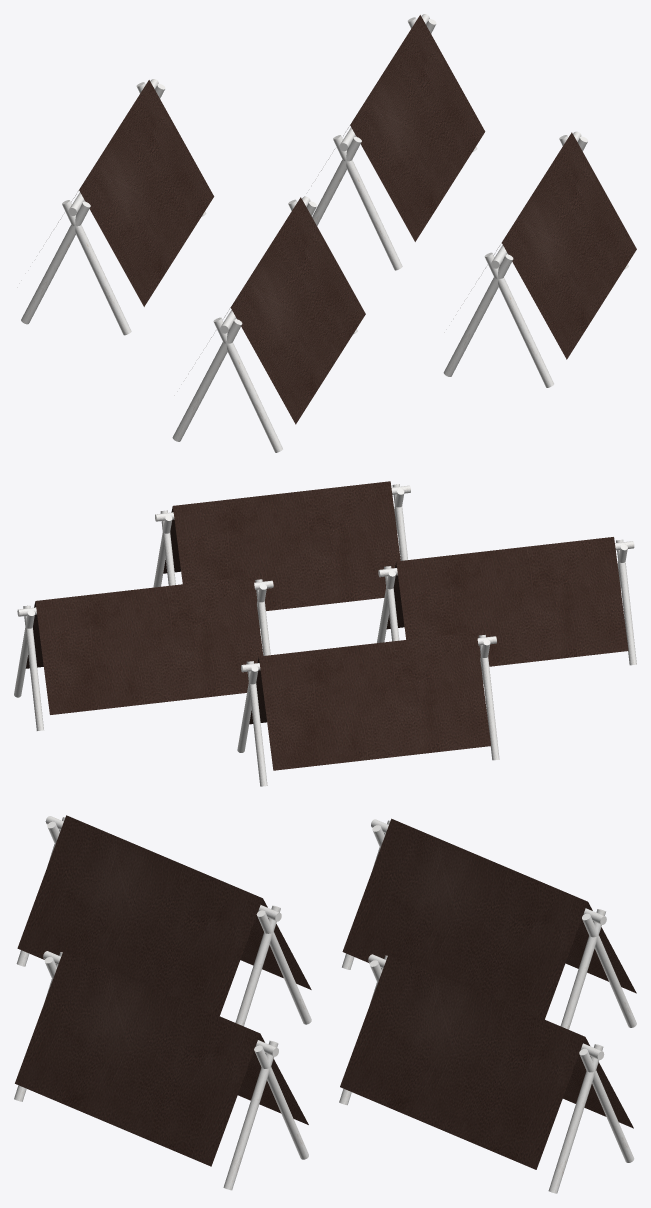
The model's file is boneTent.glb.
3 views of the same model, one above another, from view 1: azimuth 30°, elevation 25°; view 2: azimuth 150°, elevation 25°; view 3: azimuth 270°, elevation 25° (orthographic). The views are drawn at different scales.
Parts seen in each view (by area): view 1: Plane.001, Plane.002, Plane, Plane.003, Cylinder.001, Cylinder.016, Cylinder.011, Cylinder.006, Cylinder.012, Cylinder.002, Cylinder.007, Cylinder.017; view 2: Plane.002, Plane.003, Plane, Plane.001, Cylinder.014, Cylinder.019, Cylinder.012, Cylinder.002, Cylinder.018, Cylinder.013, Cylinder.008, Cylinder.003 (+4 smaller); view 3: Plane.001, Plane.003, Plane, Plane.002, Cylinder.008, Cylinder.018, Cylinder.009, Cylinder.019, Cylinder.004, Cylinder.014, Cylinder.003, Cylinder.013.
Part boxes in pixels (x1=…): Plane.001: x1=485, y1=132, x2=636, y2=359; Plane.002: x1=58, y1=80, x2=214, y2=306; Plane: x1=211, y1=197, x2=365, y2=424; Plane.003: x1=321, y1=15, x2=485, y2=241; Cylinder.001: x1=213, y1=317, x2=282, y2=452; Cylinder.016: x1=333, y1=135, x2=402, y2=270; Cylinder.011: x1=62, y1=200, x2=131, y2=335; Cylinder.006: x1=484, y1=252, x2=553, y2=387; Cylinder.012: x1=21, y1=201, x2=90, y2=324; Cylinder.002: x1=172, y1=319, x2=242, y2=441; Cylinder.007: x1=443, y1=254, x2=513, y2=376; Cylinder.017: x1=312, y1=137, x2=361, y2=225; Plane.002: x1=249, y1=632, x2=490, y2=770; Plane.003: x1=26, y1=576, x2=263, y2=714; Plane: x1=386, y1=537, x2=628, y2=666; Plane.001: x1=163, y1=481, x2=400, y2=610; Cylinder.014: x1=246, y1=661, x2=267, y2=786; Cylinder.019: x1=23, y1=605, x2=43, y2=730; Cylinder.012: x1=478, y1=634, x2=499, y2=760; Cylinder.002: x1=616, y1=539, x2=636, y2=665; Cylinder.018: x1=14, y1=610, x2=34, y2=697; Cylinder.013: x1=237, y1=666, x2=258, y2=752; Cylinder.008: x1=153, y1=515, x2=172, y2=587; Cylinder.003: x1=377, y1=571, x2=395, y2=642; Plane.001: x1=15, y1=950, x2=308, y2=1166; Plane.003: x1=340, y1=954, x2=633, y2=1169; Plane: x1=17, y1=815, x2=311, y2=1015; Plane.002: x1=342, y1=818, x2=636, y2=1019; Cylinder.008: x1=223, y1=1040, x2=278, y2=1190; Cylinder.018: x1=548, y1=1044, x2=603, y2=1193; Cylinder.009: x1=254, y1=1045, x2=308, y2=1159; Cylinder.019: x1=579, y1=1048, x2=634, y2=1162; Cylinder.004: x1=256, y1=910, x2=311, y2=1024; Cylinder.014: x1=582, y1=913, x2=636, y2=1027; Cylinder.003: x1=235, y1=905, x2=280, y2=1026; Cylinder.013: x1=560, y1=909, x2=605, y2=1029.
Size of the model in its own units: 2.71 by 0.6654 by 2.71.
2 materials, 2 textured.
